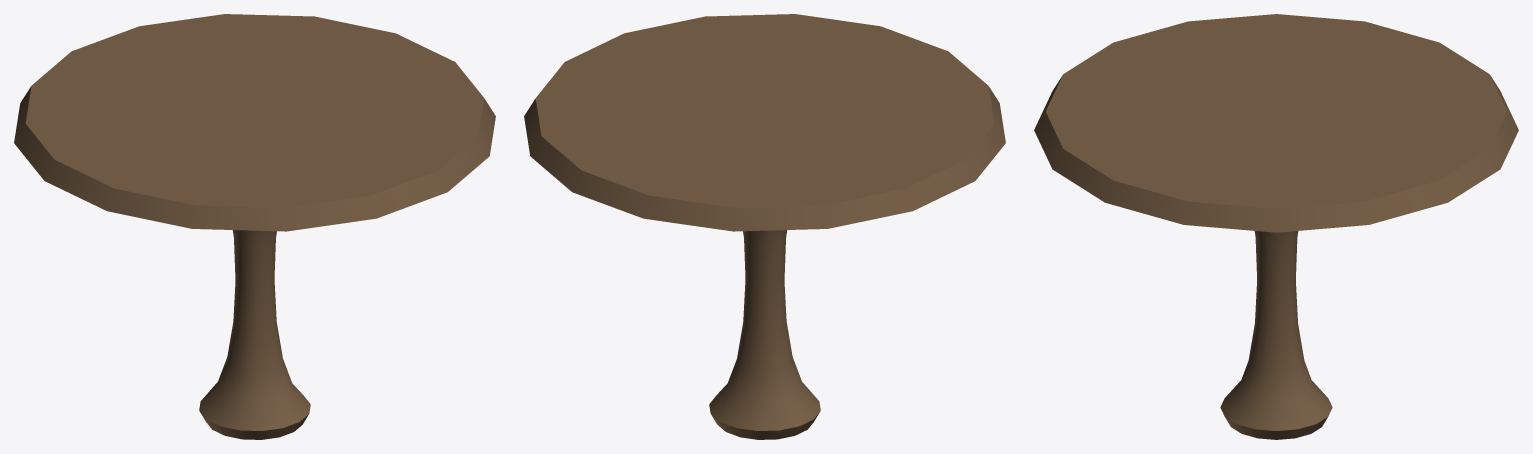
File: SmallTable.fbx
The picture shows the model from 3 angles, left to right: view 1: azimuth 30°, elevation 25°; view 2: azimuth 150°, elevation 25°; view 3: azimuth 270°, elevation 25°; orthographic projection.
Visible parts, largest first — view 1: SmalTable; view 2: SmalTable; view 3: SmalTable.
Part boxes in pixels (x1=…): SmalTable: x1=14, y1=14, x2=495, y2=439; SmalTable: x1=524, y1=14, x2=1005, y2=439; SmalTable: x1=1034, y1=14, x2=1518, y2=439.
Bounding box in the file's own units: 150 × 105 × 150.
1 material, 1 textured.
